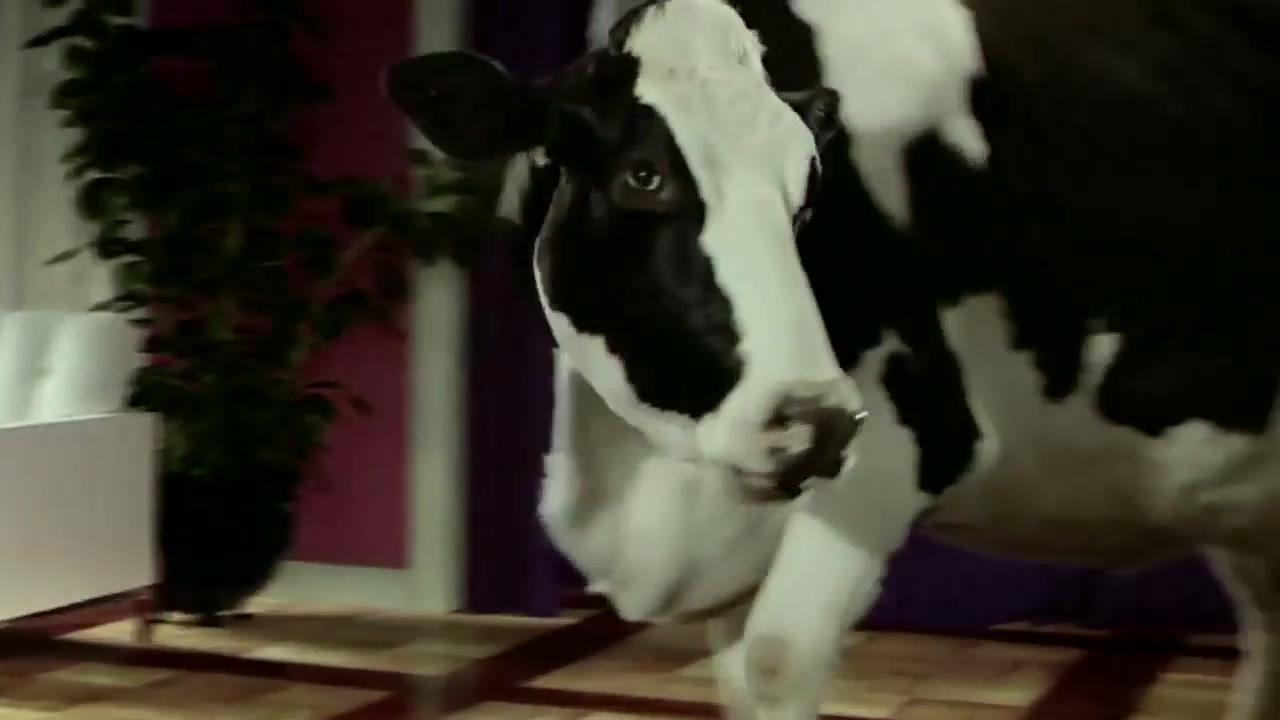cow: (385, 2, 1280, 720)
